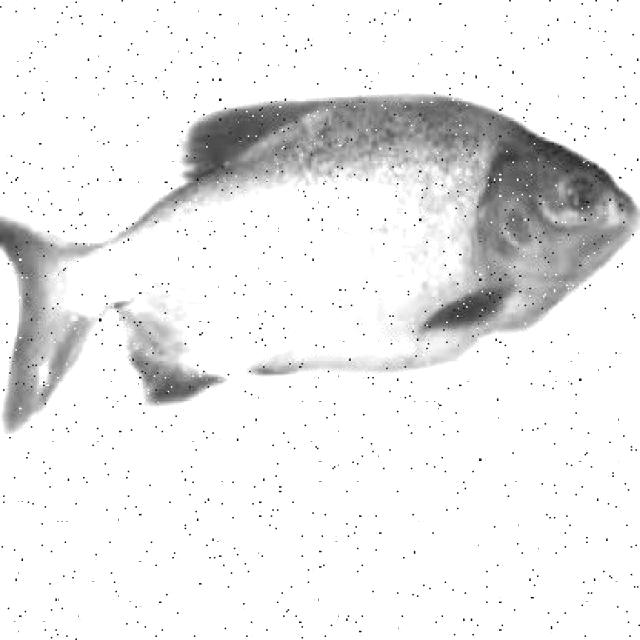ikan-pacu: (2, 90, 635, 416)
